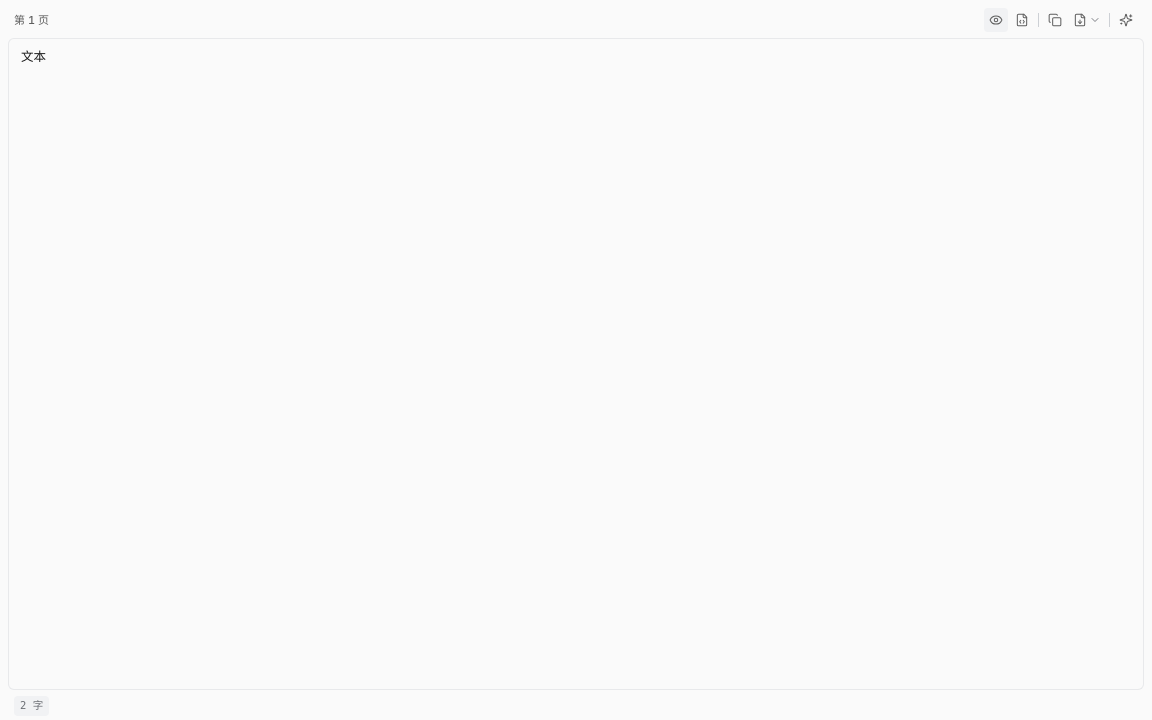
Test: OcrTextPanel toolbar — export menu › dims the reading-view PDF entry when the page has no layout
Click the button named "导出" at (1087, 20), box x1=1069 y1=8 x2=1105 y2=32
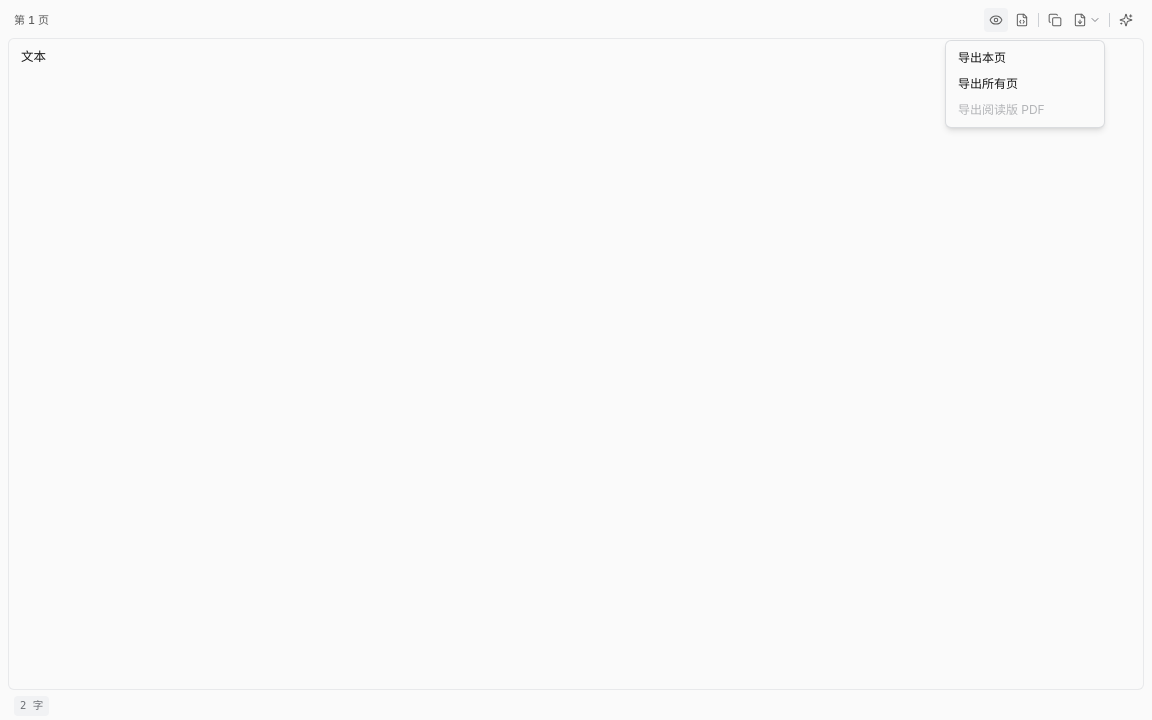
Now the menu item "导出阅读版 PDF" is disabled, box x1=950 y1=97 x2=1100 y2=123
